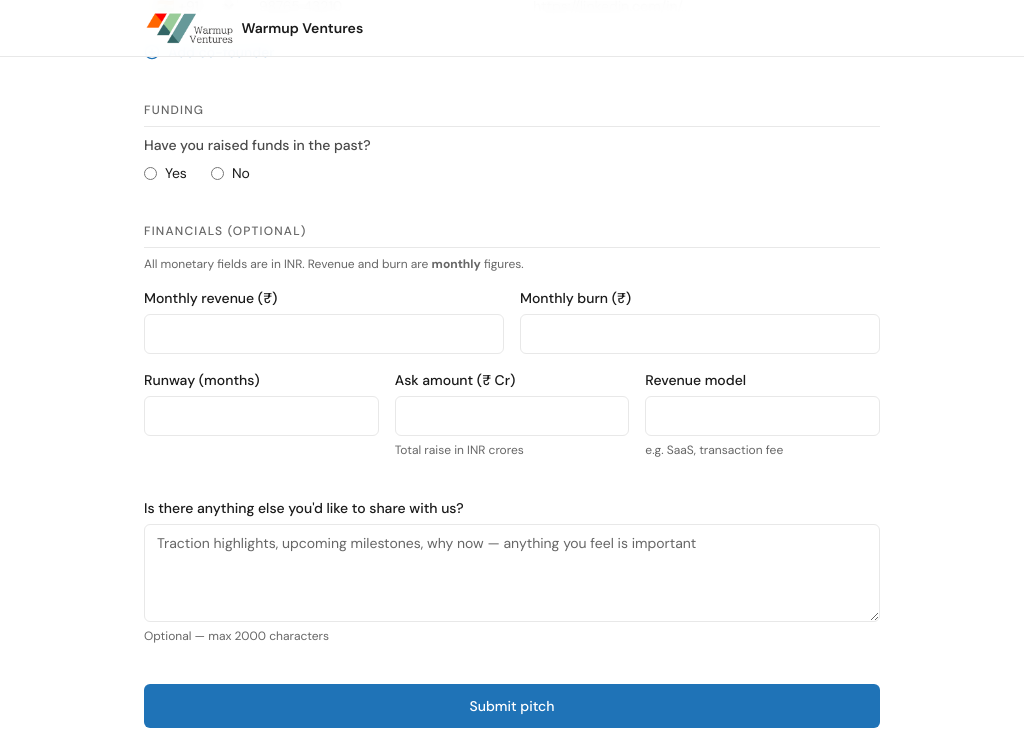
Test: PublicPitchPage — client-side validation › shows required errors when submitted empty
(page scrolled)
Click the button with test id "pitch-submit": (512, 706) [144,684,880,728]
(page scrolled)
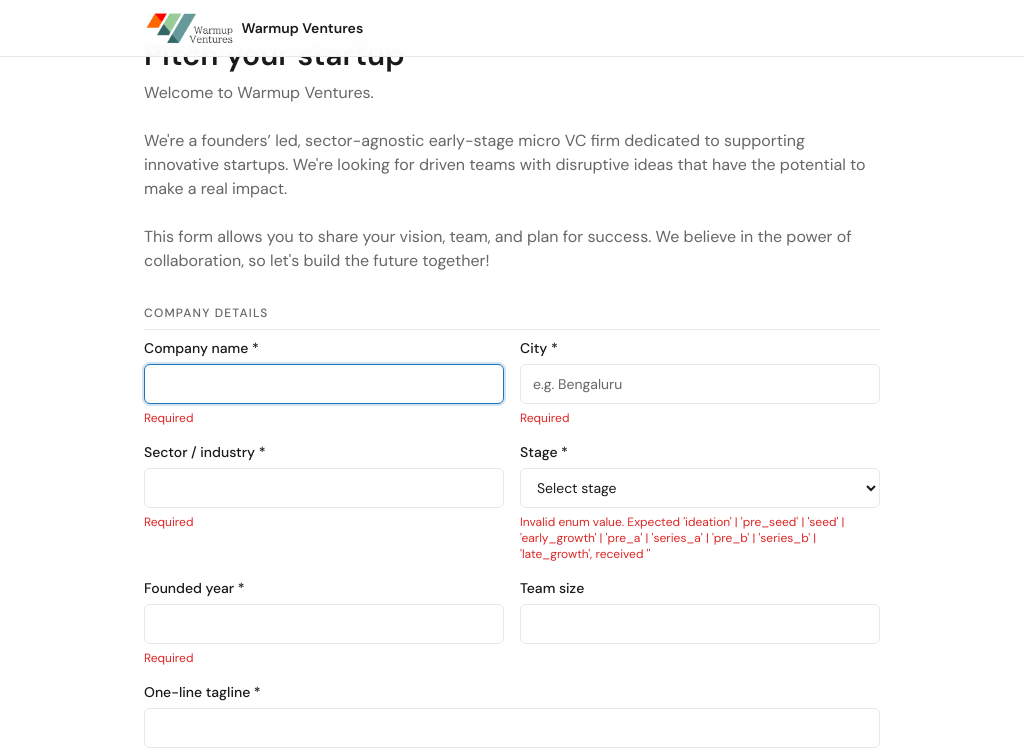
Now the text "Required" below "Company name *" is shown, box [144,410,193,426]
